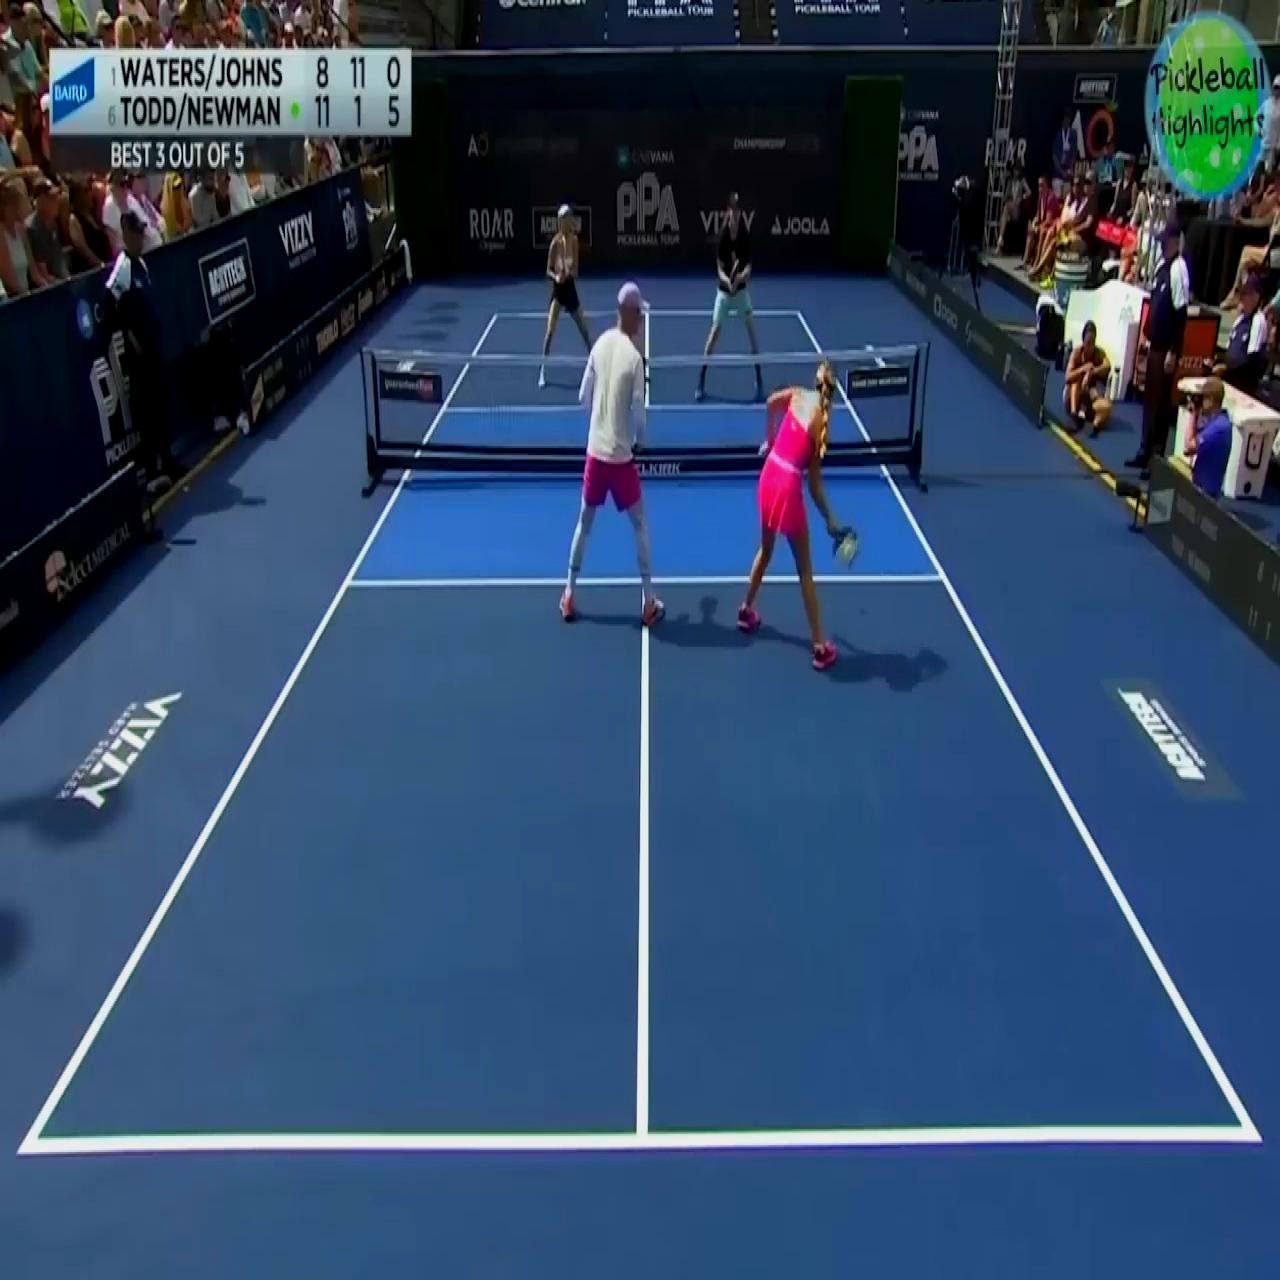Pickleball: (837, 530, 856, 564)
